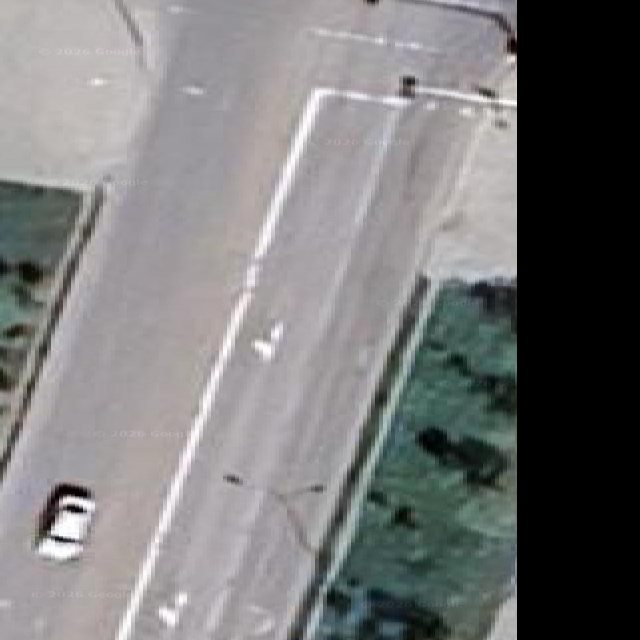car: (36, 484, 94, 560)
